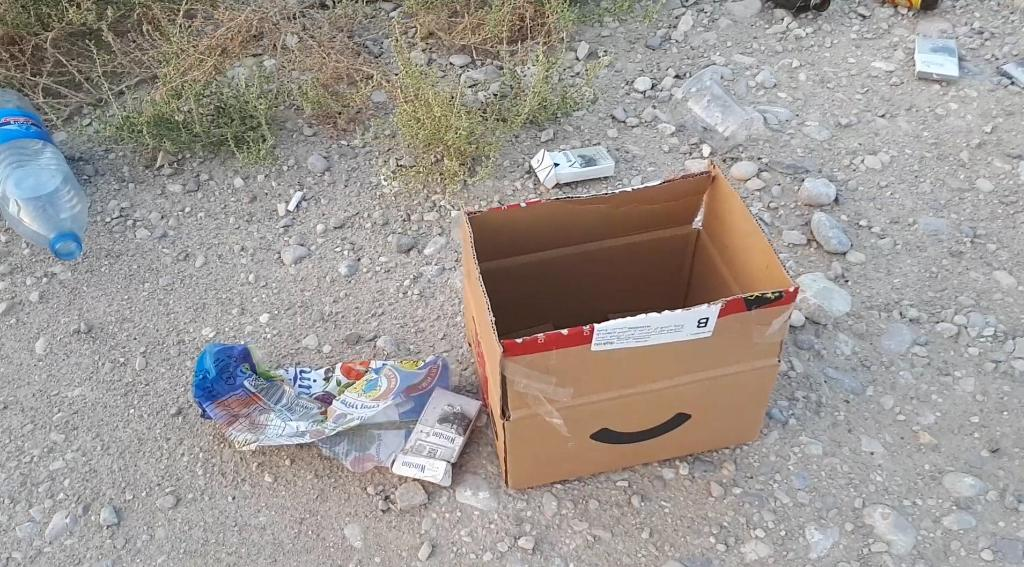garbage: (447, 172, 810, 490), (189, 333, 484, 501), (0, 88, 89, 261), (772, 0, 831, 13), (879, 0, 943, 10)
